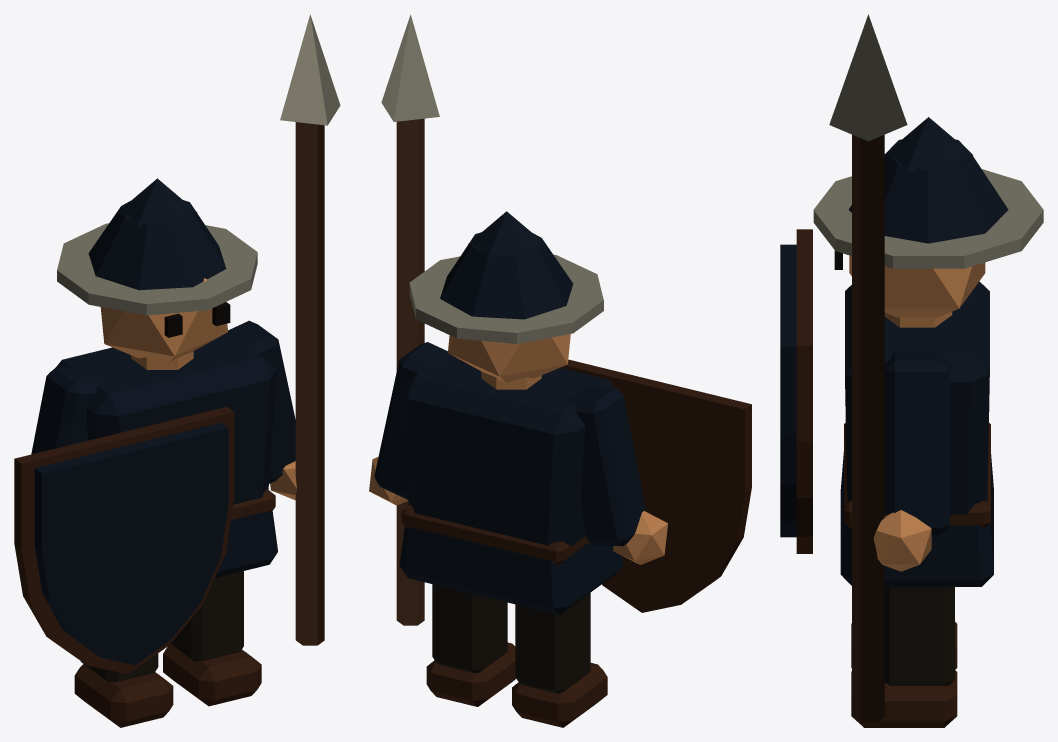
File: spearman.obj
The picture shows the model from 3 angles, left to right: view 1: azimuth 30°, elevation 25°; view 2: azimuth 150°, elevation 25°; view 3: azimuth 270°, elevation 25°; orthographic projection. The views are drawn at different scales.
Visible parts, largest first — view 1: body, tool; view 2: body, tool; view 3: body, tool.
Boxes of the visible parts, <box> form: body: <box>14,178,296,727</box>; tool: <box>280,14,340,645</box>; body: <box>369,211,751,727</box>; tool: <box>381,14,439,625</box>; body: <box>780,117,1043,727</box>; tool: <box>829,14,907,722</box>.
Bounding box in the file's own units: 0.2784 × 0.505 × 0.1614.
